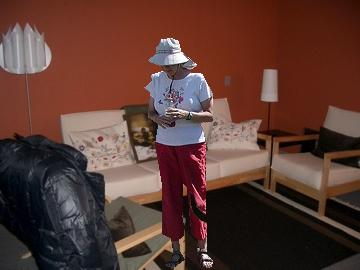tampered: (145, 39, 213, 268)
